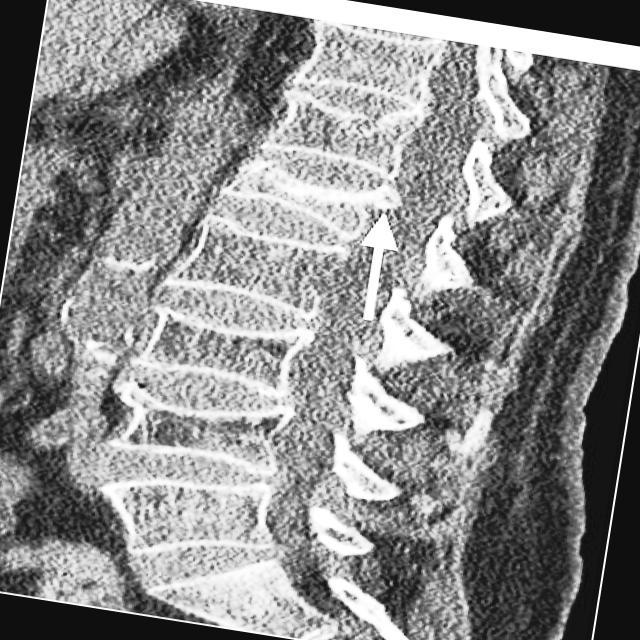Compression-Crush Fracutre: (235, 163, 399, 251)
